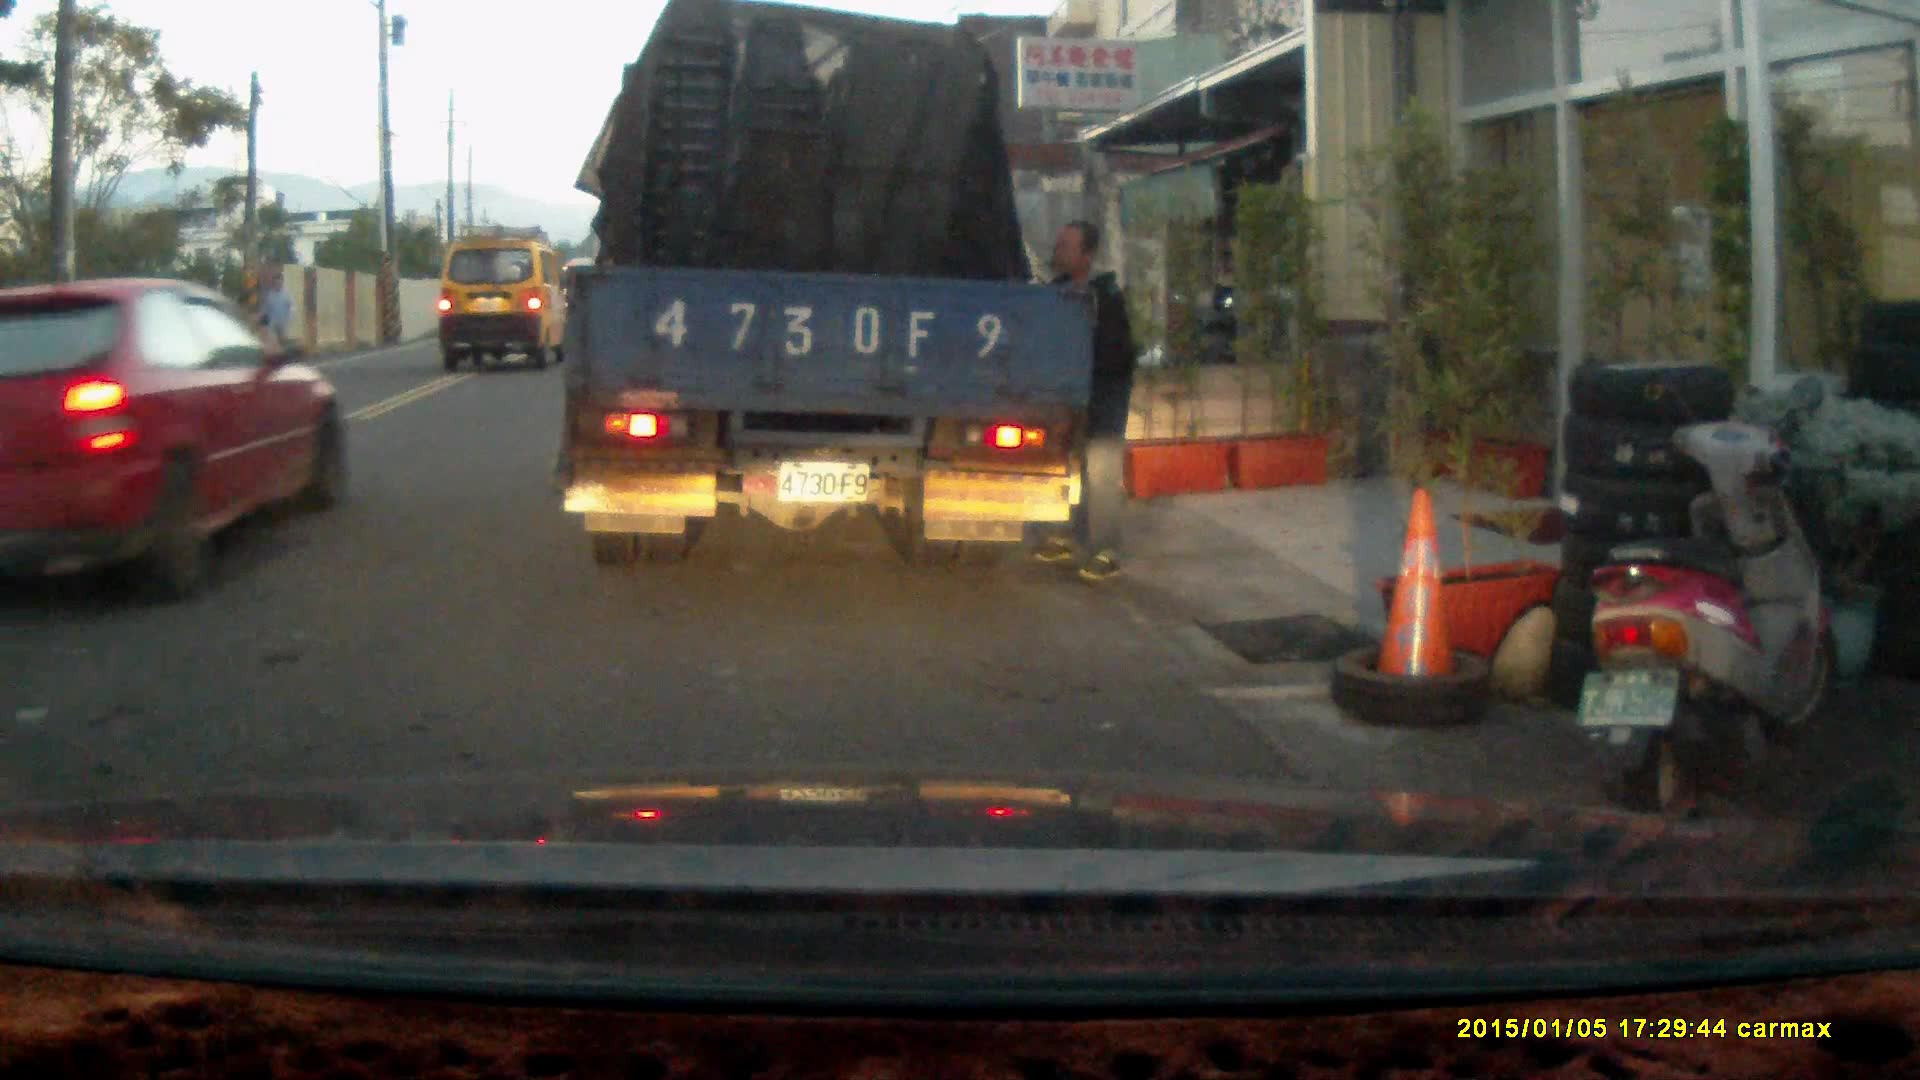pedestrian: (1022, 215, 1132, 582), (254, 275, 294, 369)
vehicle: (565, 23, 1096, 569), (1, 277, 353, 598), (436, 237, 571, 366)
